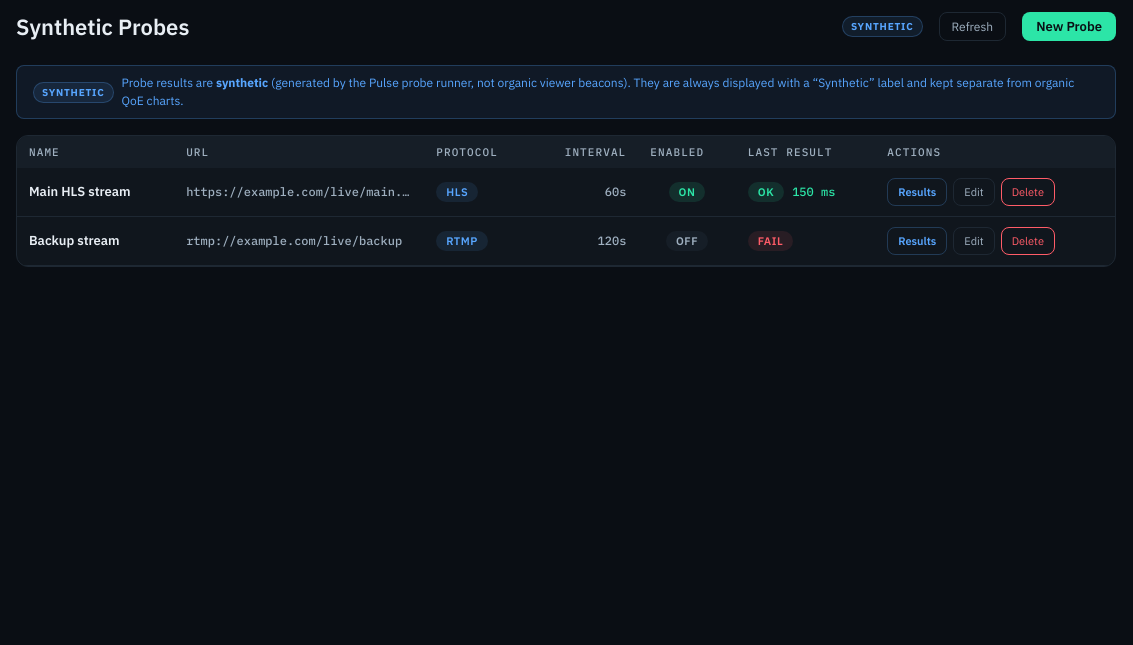
ProbesPage WebRTC columns › renders 'timeout' badge for ice_state='timeout'
Expected: the text "Main HLS stream" is shown, [17,168,174,216]
Click the button with aria-label "view results for".
click(917, 192)  # box [887,178,947,206]
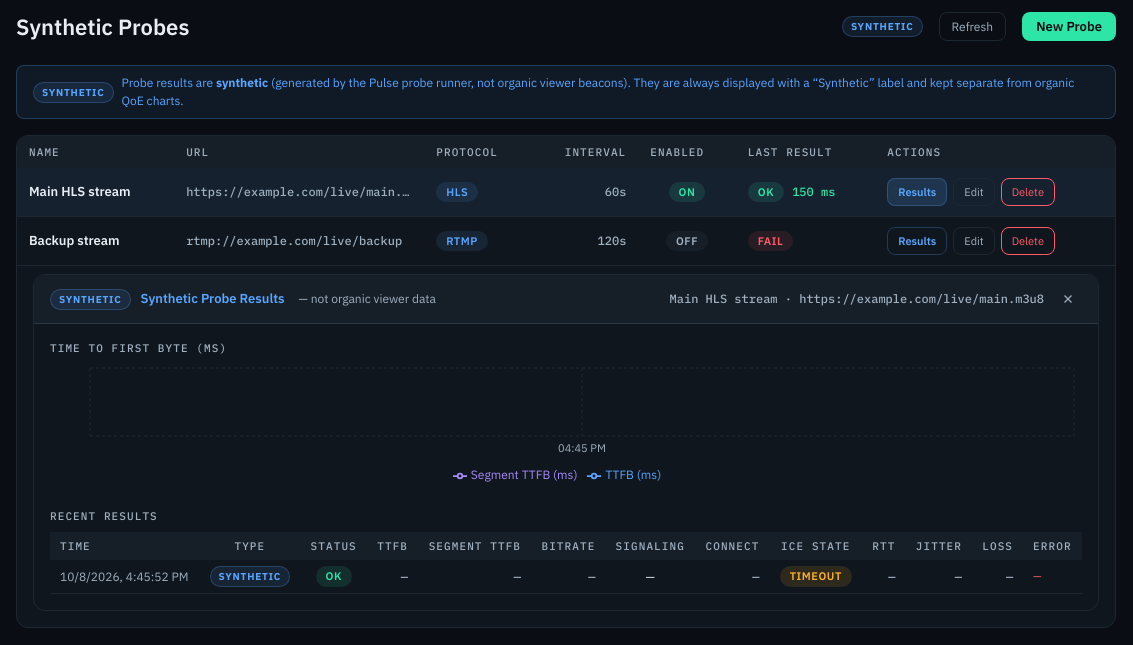
Expected: the text "Synthetic Probe Results" is shown, [141,289,285,309]
Expected: the text "timeout" is shown, [780,566,852,587]
